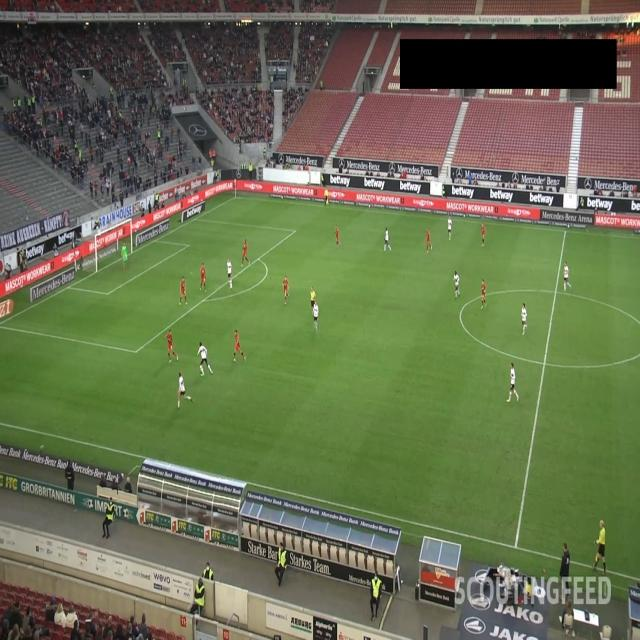f_player: (176, 374, 194, 411), (506, 362, 520, 404), (197, 344, 213, 376), (232, 328, 246, 364), (165, 330, 178, 364), (563, 262, 573, 292), (226, 260, 236, 290), (311, 300, 321, 330), (451, 270, 461, 298), (479, 280, 488, 310), (179, 279, 189, 306), (240, 238, 250, 264), (520, 303, 528, 333), (282, 278, 290, 304), (200, 264, 208, 290), (383, 228, 391, 252), (334, 225, 342, 248), (480, 224, 488, 247), (424, 230, 432, 253), (447, 217, 453, 240)
umpire: (594, 521, 608, 573), (308, 285, 318, 315), (121, 241, 129, 271)
